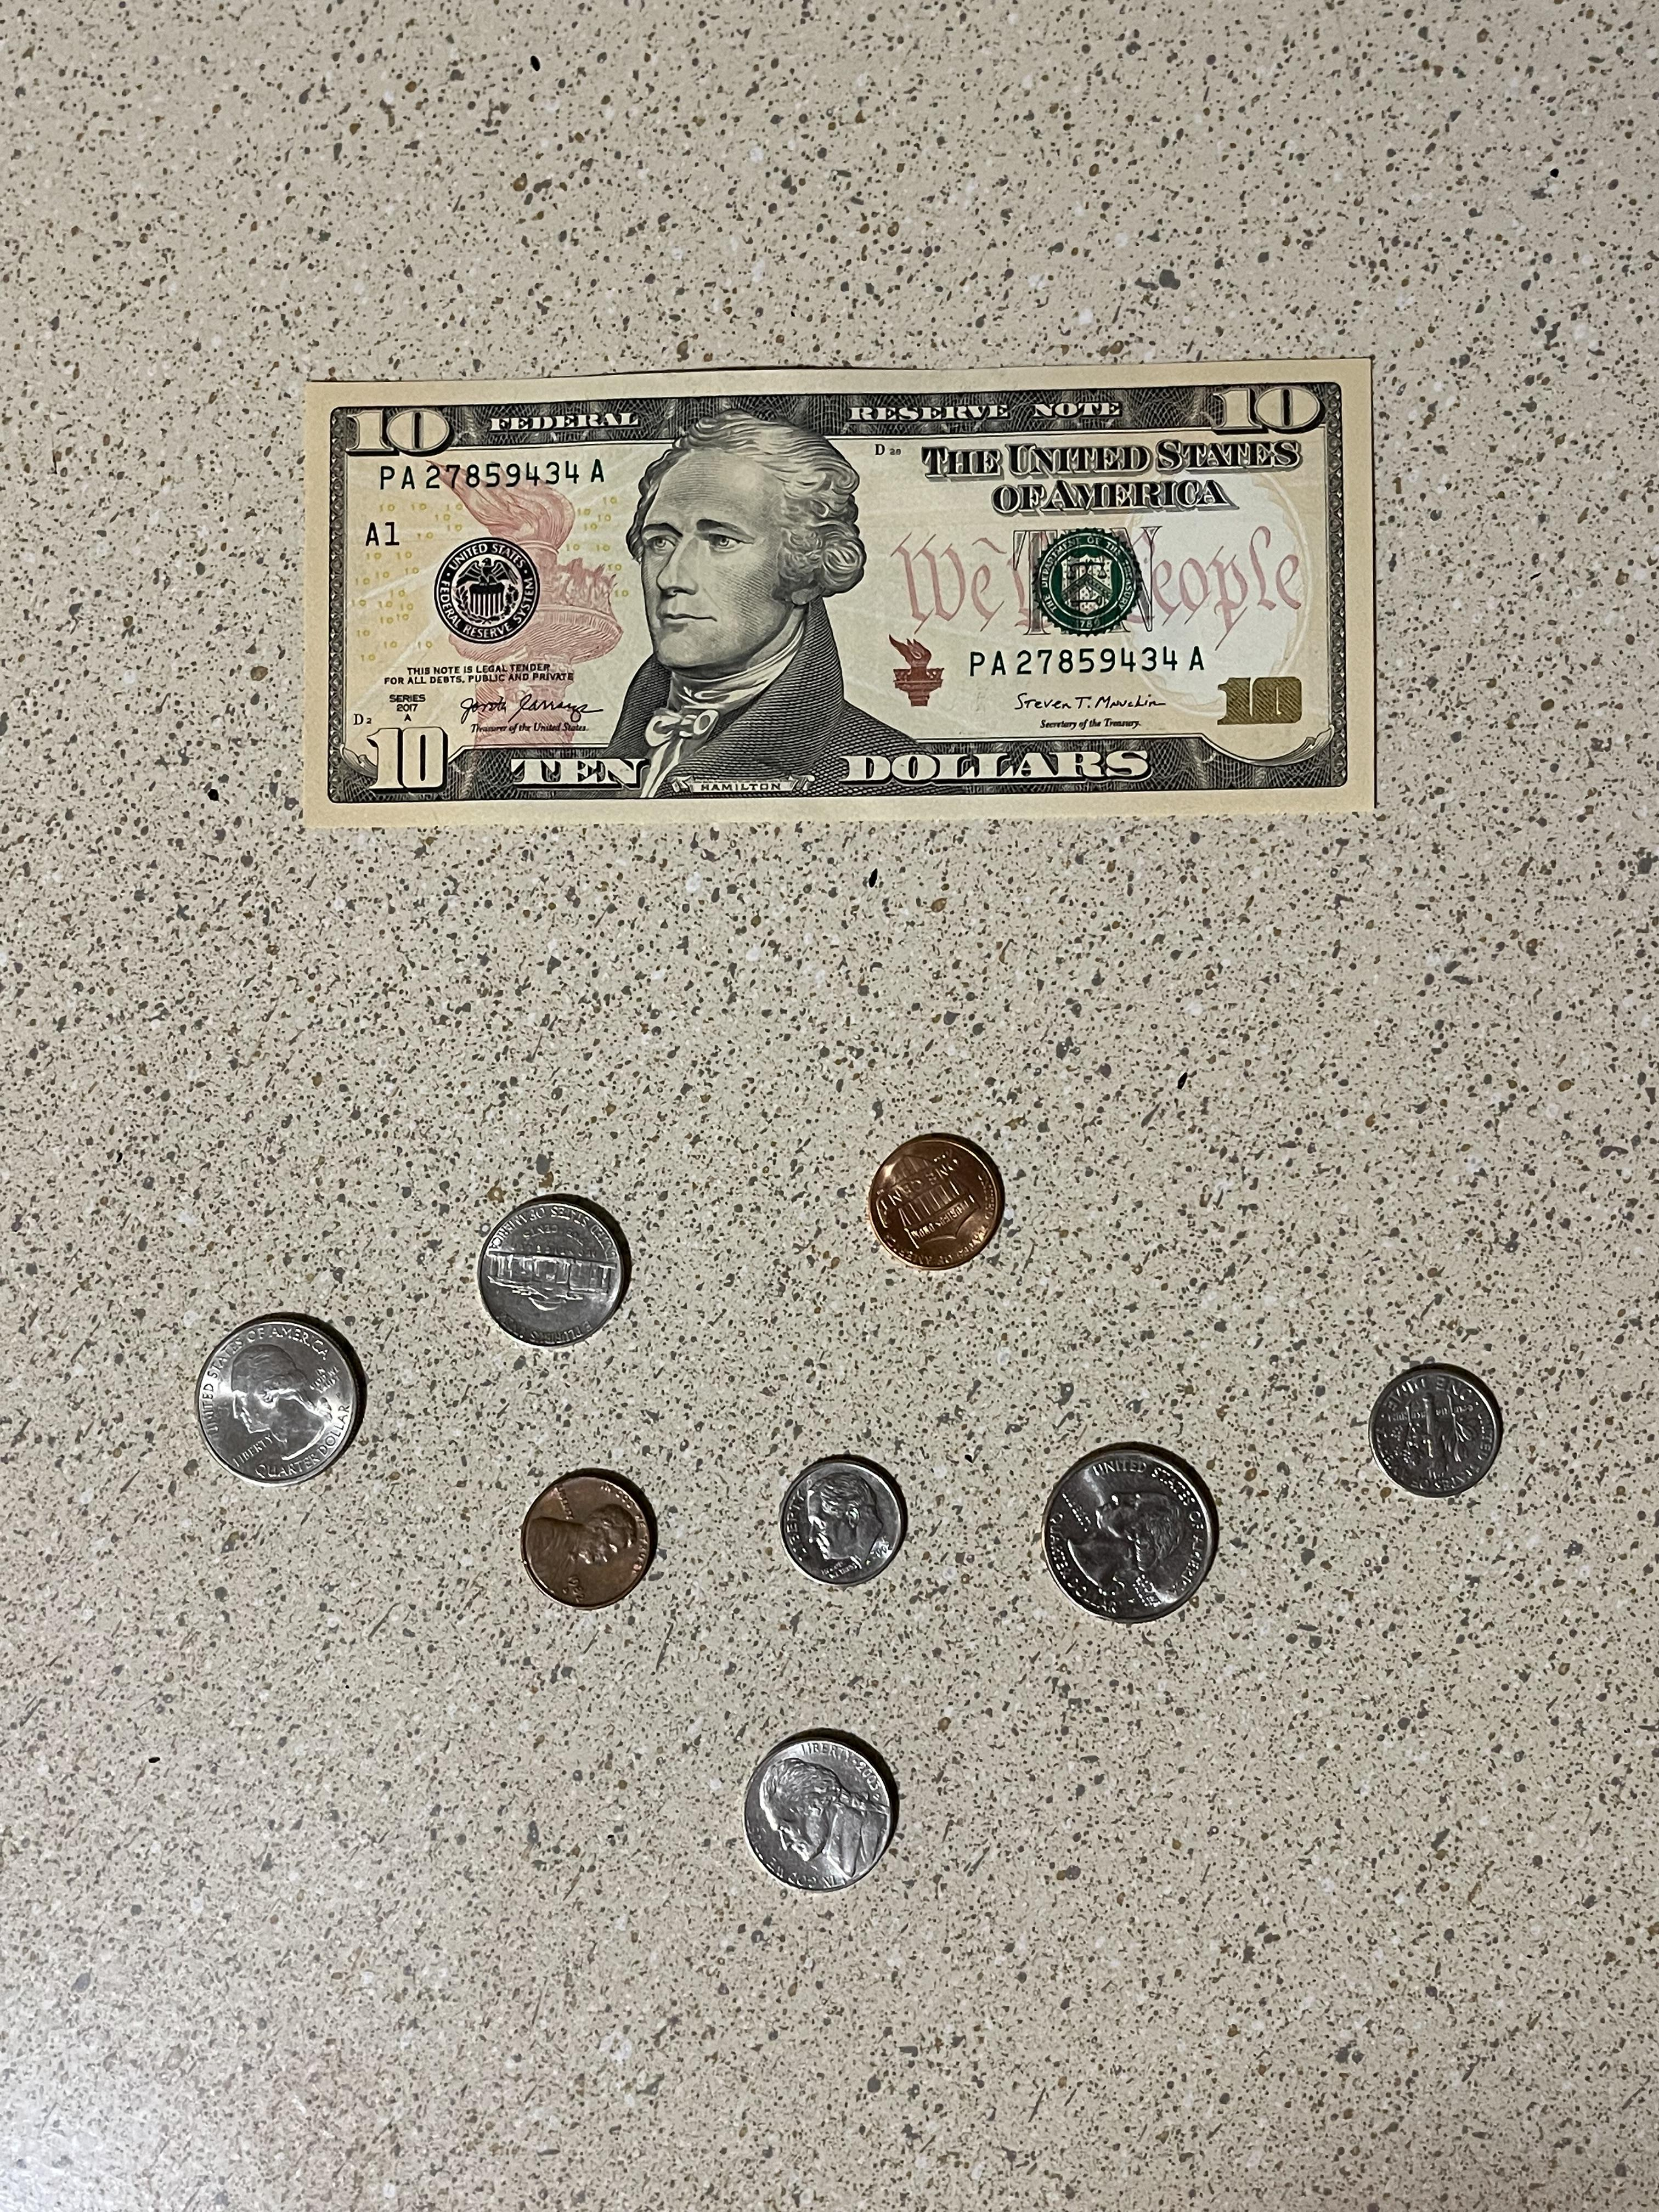Dime: (1368, 1367, 1500, 1500), (777, 1458, 903, 1588)
Nickel: (741, 1737, 894, 1895), (476, 1200, 624, 1352)
Penny: (866, 1136, 1000, 1271), (519, 1475, 650, 1611)
Quarter: (1040, 1447, 1215, 1625), (193, 1317, 361, 1489)
TenBill: (300, 354, 1380, 827)
